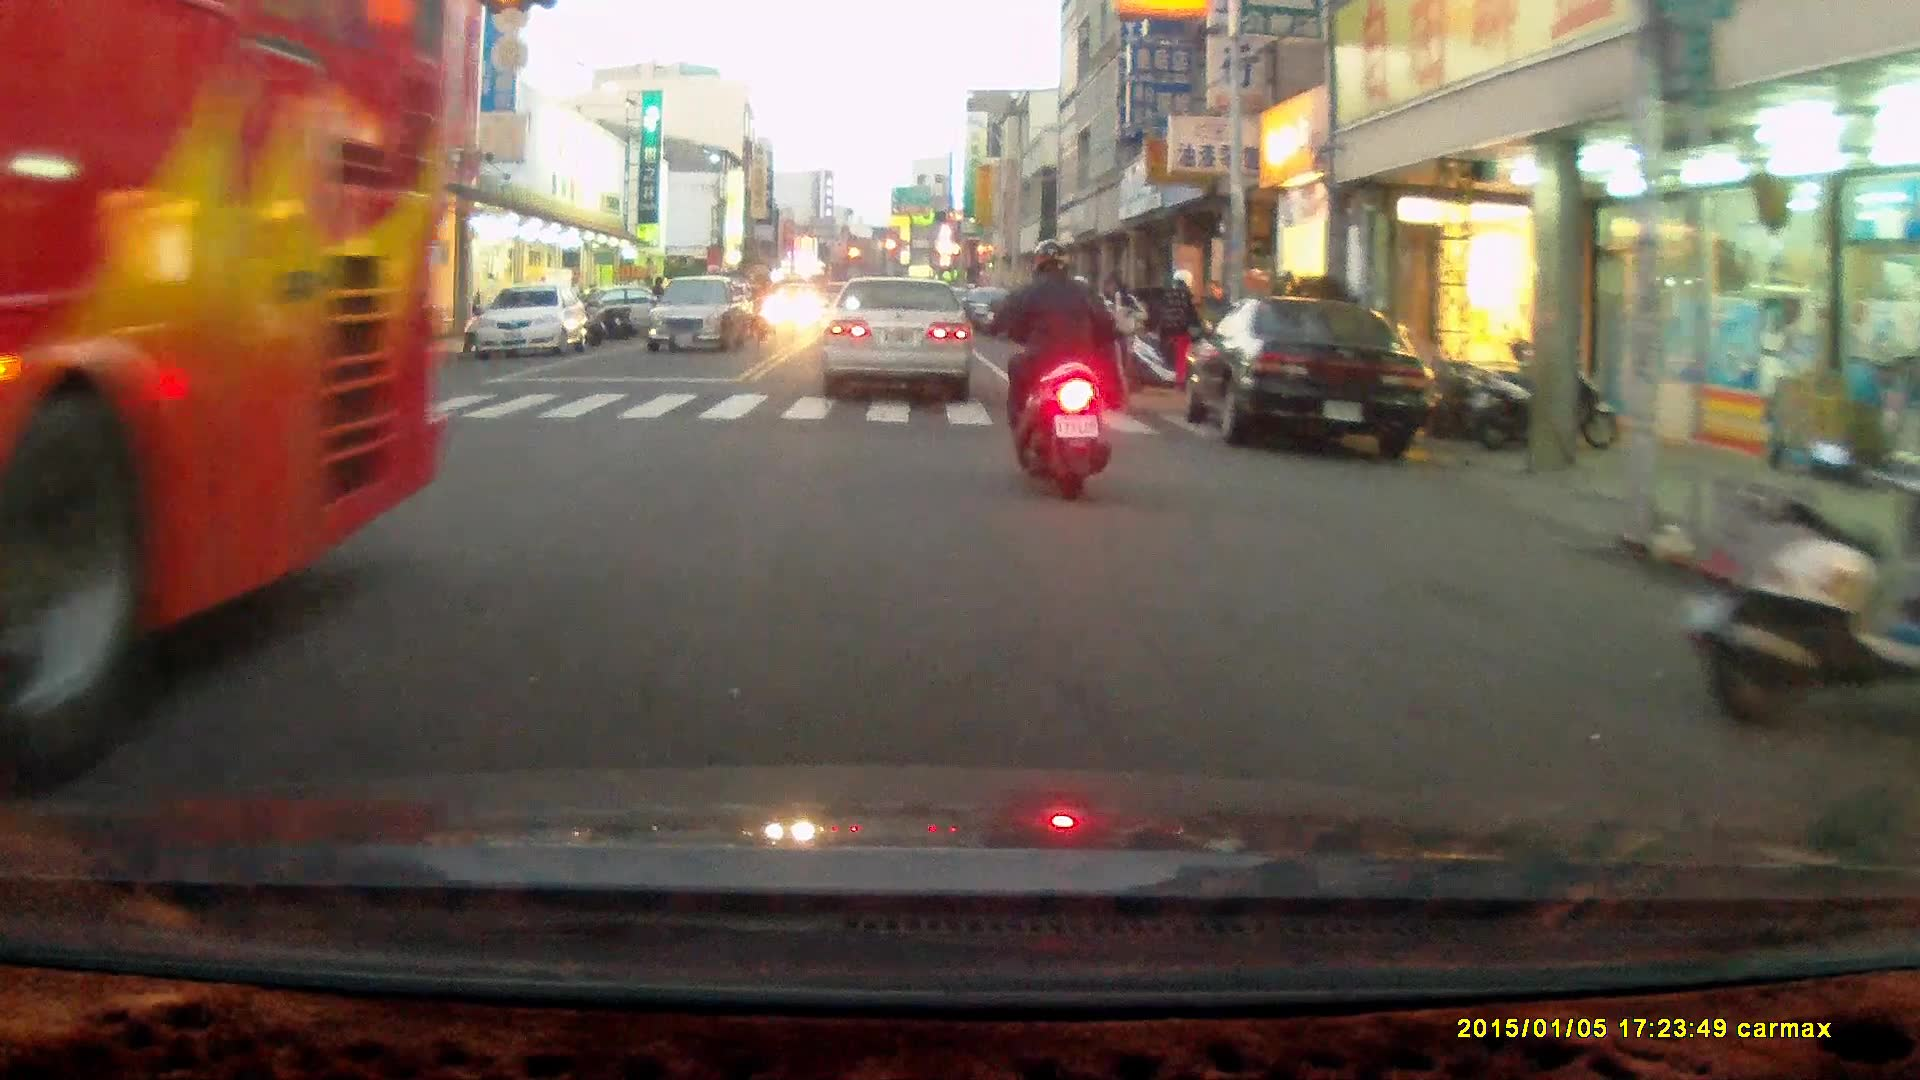pedestrian: (1165, 267, 1205, 399)
rider: (989, 239, 1115, 504)
vehicle: (1, 16, 456, 724), (1182, 302, 1444, 461), (825, 276, 982, 408), (470, 287, 585, 364), (649, 279, 751, 355)
